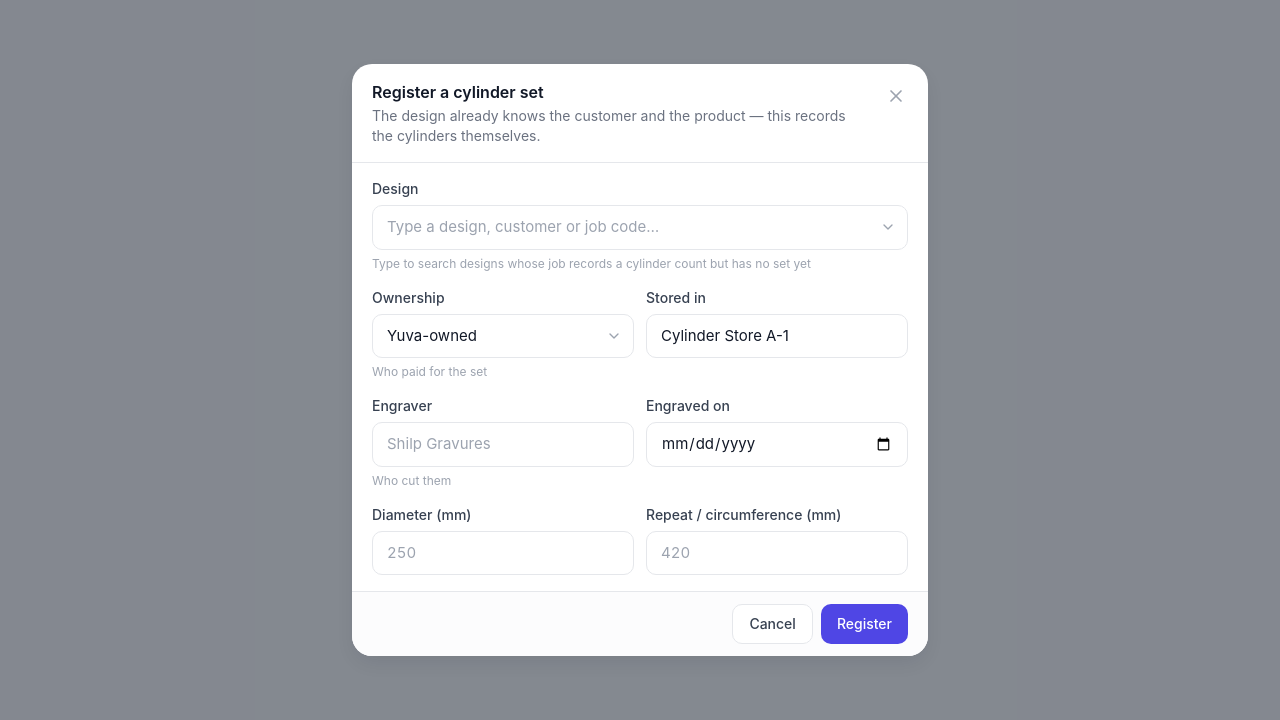
Test: RegisterSetModal — choosing a design › narrows the list as you type
Focus the dropdown labelled "Design" at (640, 227), box [372, 205, 908, 250]
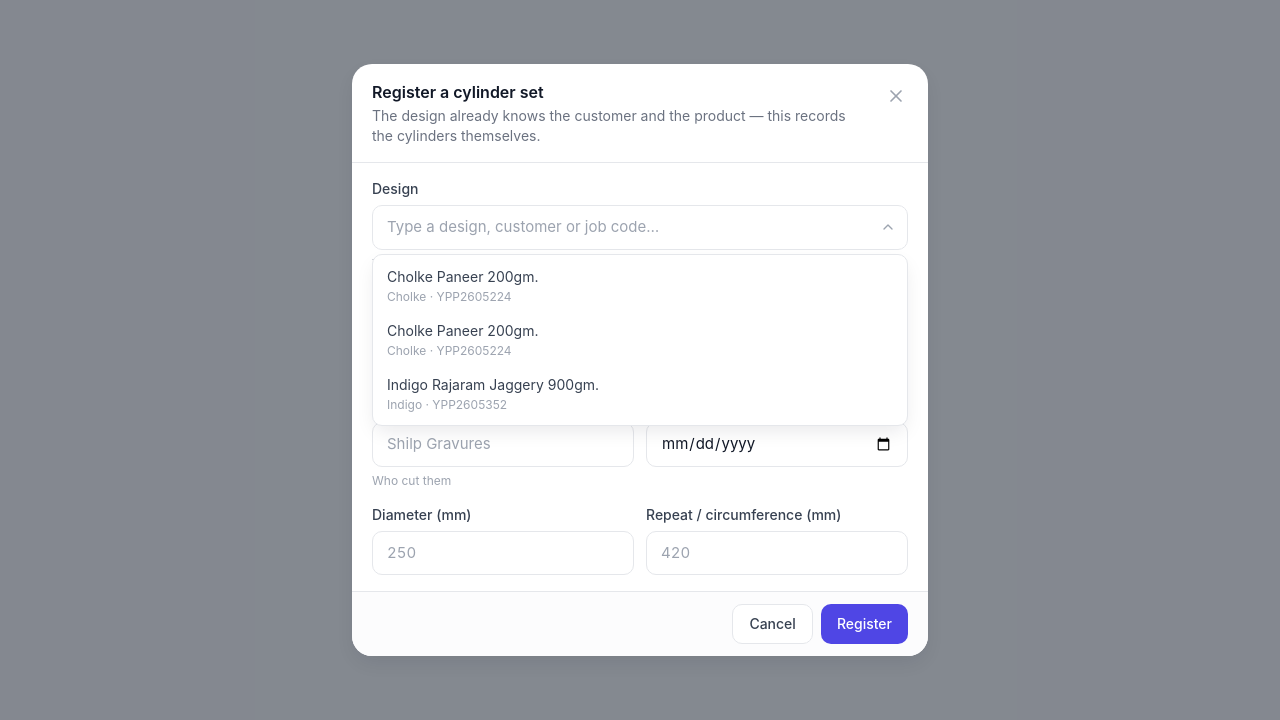
Expected: the number of options is 3, [373, 258, 907, 312]; [373, 312, 907, 366]; [373, 366, 907, 420]
Type "jagg" into the dropdown labelled "Design" at (640, 227), box [372, 205, 908, 250]
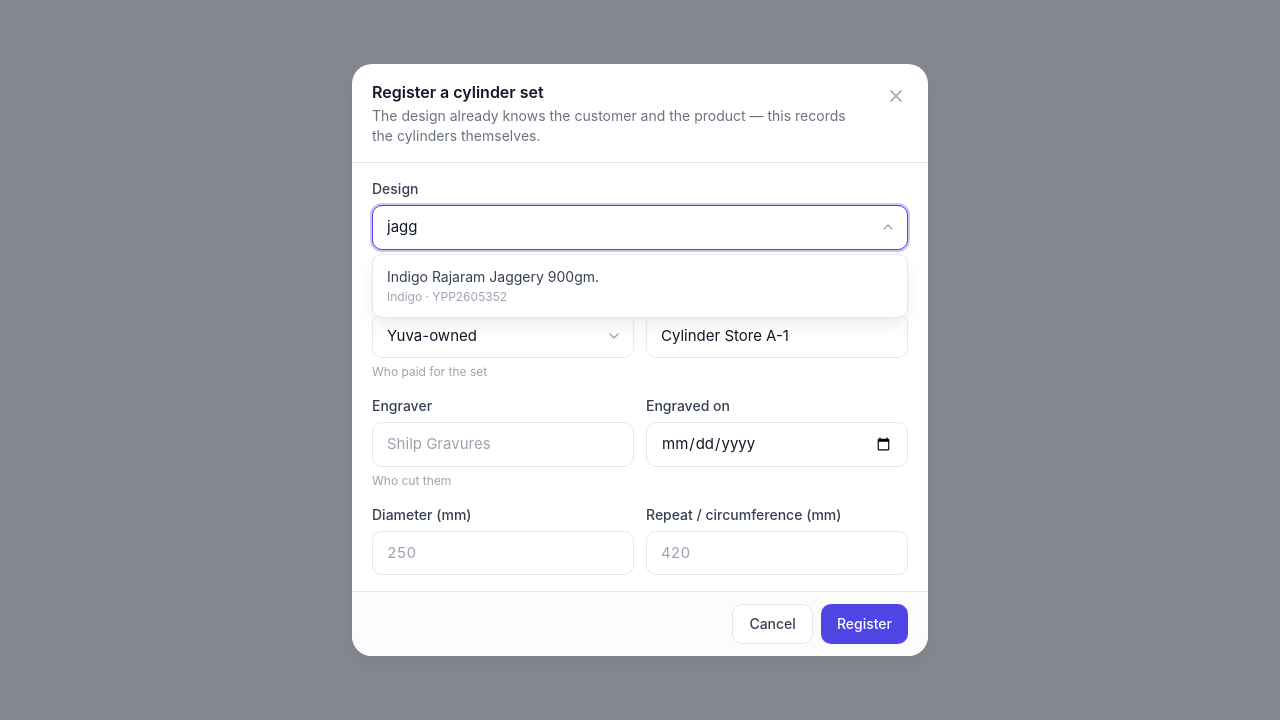
Expected: the option shows "Indigo Rajaram Jaggery", [373, 258, 907, 312]
Expected: the number of options is 1, [373, 258, 907, 312]
